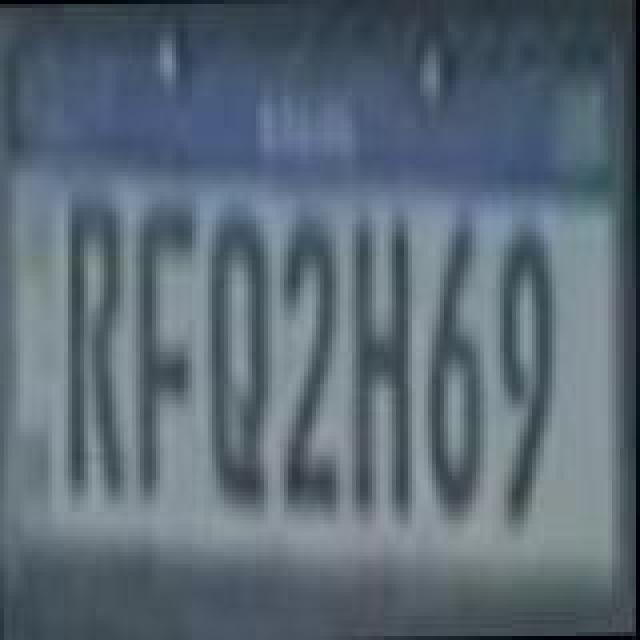2: (276, 212, 344, 508)
6: (420, 210, 488, 522)
9: (494, 228, 562, 532)
F: (132, 196, 200, 496)
H: (348, 208, 416, 524)
Q: (202, 200, 274, 516)
R: (60, 196, 128, 500)
